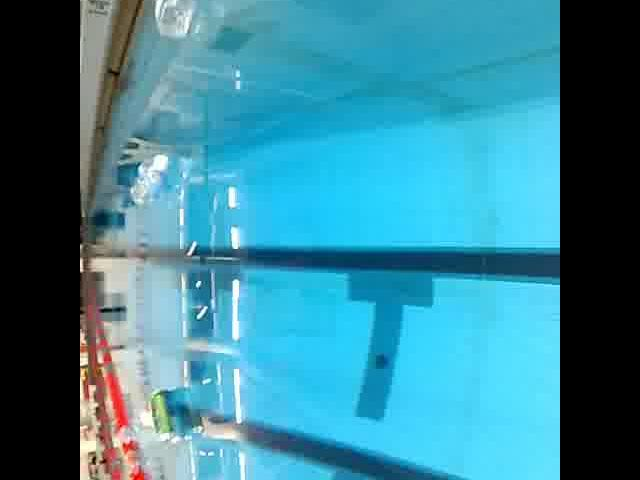Bottle: (127, 152, 175, 208), (147, 0, 199, 40)
Can: (146, 382, 182, 444)
